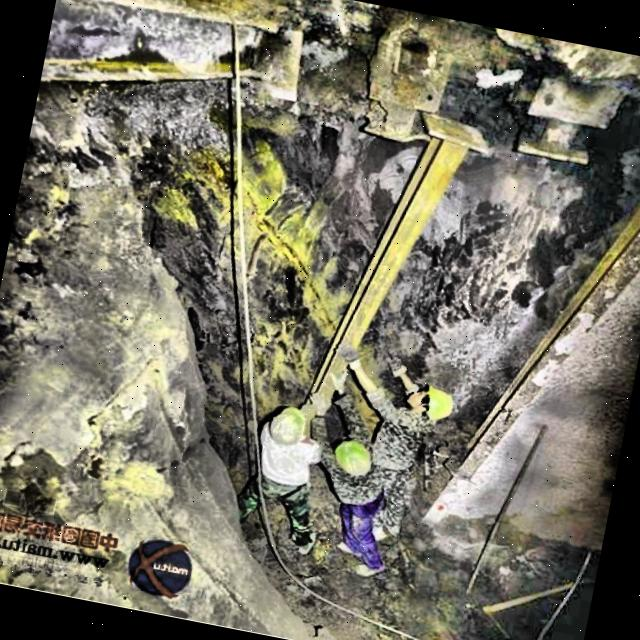helmet: (399, 379, 463, 428), (260, 398, 314, 452), (328, 436, 382, 488)
